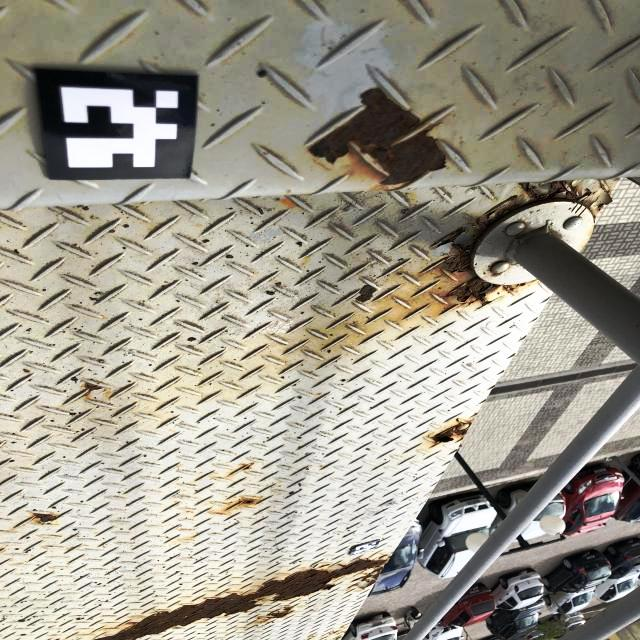Corrosion: (93, 557, 390, 640), (432, 181, 604, 274), (307, 86, 450, 186), (446, 276, 529, 310), (432, 421, 472, 446), (265, 607, 295, 621), (226, 498, 261, 509), (30, 512, 58, 523), (83, 383, 104, 396)
